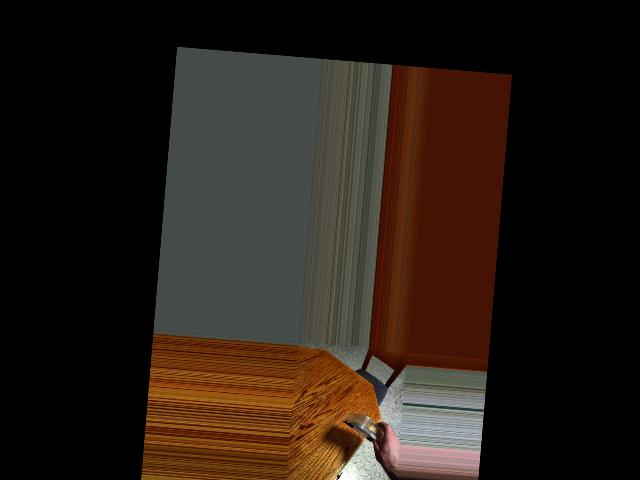cheese: (342, 411, 387, 442)
